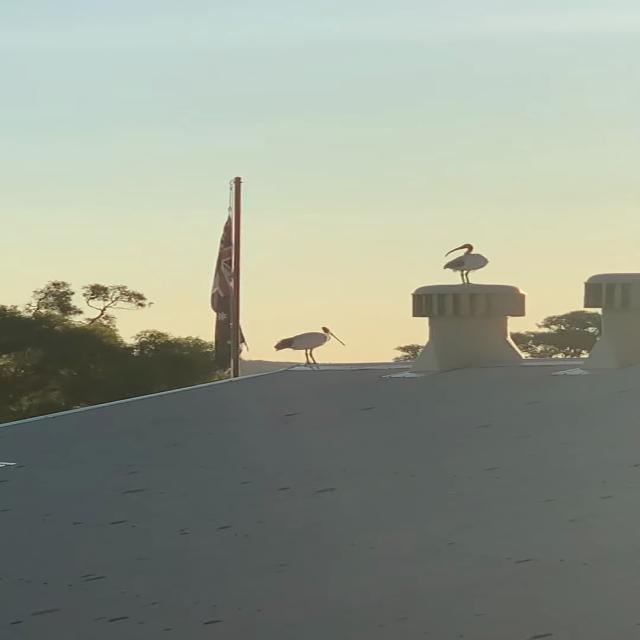Birds-Ibis: (272, 324, 348, 367), (440, 242, 491, 286)
